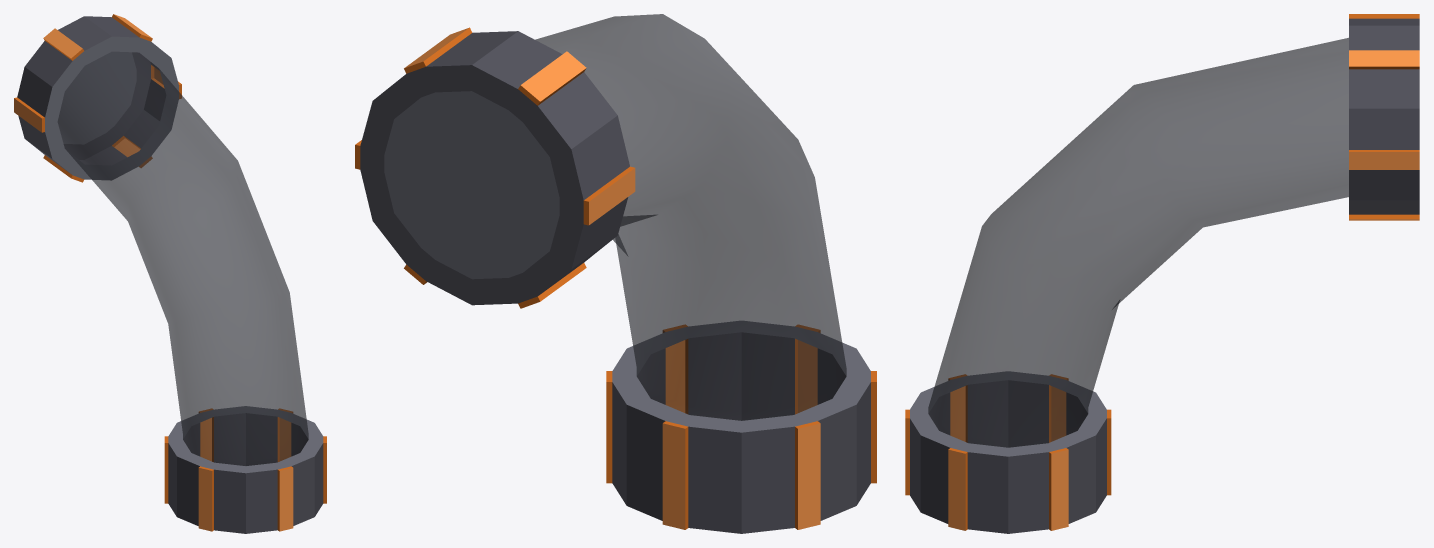
The model's file is TubeCurve.glb.
3 renders of one model, left to right at view 1: azimuth 30°, elevation 25°; view 2: azimuth 150°, elevation 25°; view 3: azimuth 270°, elevation 25°, orthographic. The views are drawn at different scales.
Parts seen in each view (by area): view 1: Tube_Curve; view 2: Tube_Curve; view 3: Tube_Curve.
Part boxes in pixels (<box>): Tube_Curve: <box>14,14,326,533</box>; Tube_Curve: <box>355,14,876,533</box>; Tube_Curve: <box>905,14,1419,533</box>.
Size of the model in its own units: 0.2491 by 0.6213 by 0.6224.
2 materials, 2 textured.
